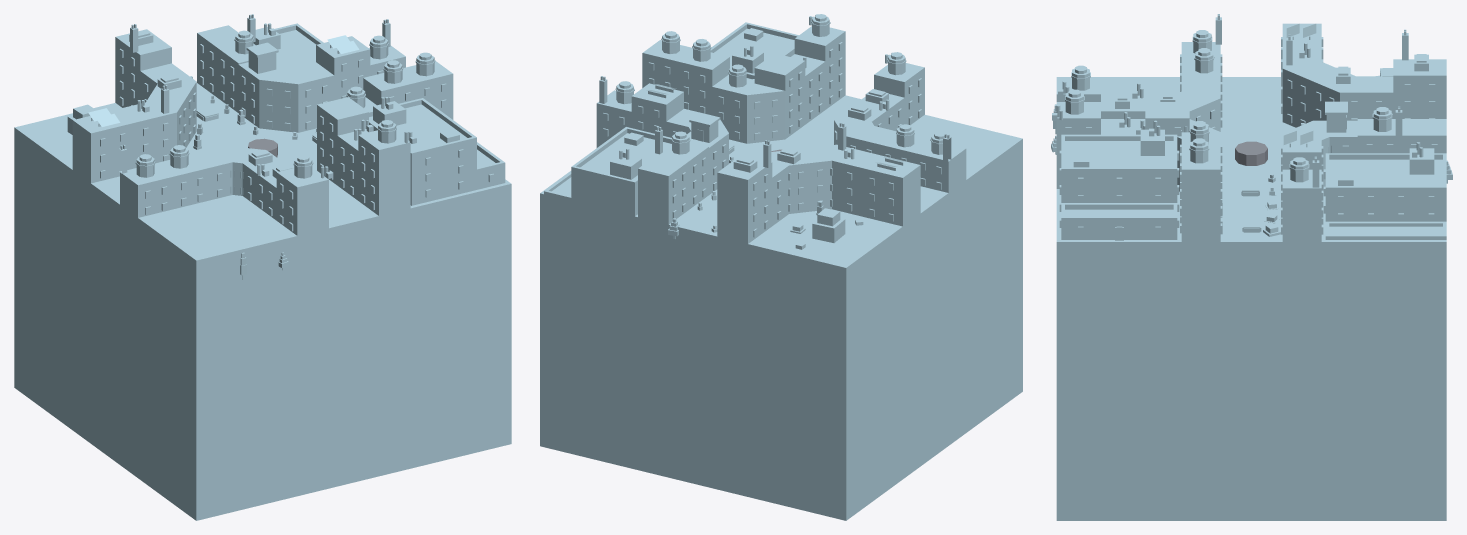
The model's file is block_19_undergroundtanks_100.glb.
3 renders of one model, left to right at view 1: azimuth 30°, elevation 25°; view 2: azimuth 150°, elevation 25°; view 3: azimuth 270°, elevation 25°, orthographic. The views are drawn at different scales.
Visible parts, largest first — view 1: Patch_MidRight_b19_UT, Cerda_MidRight_b19_UT, Insets_MidRight_b19_UT, CerdaRoofProps_MidRight_b19_UT, Green_MidRight_b19_UT; view 2: Patch_MidRight_b19_UT, Cerda_MidRight_b19_UT, Insets_MidRight_b19_UT, CerdaRoofProps_MidRight_b19_UT, Asset_Tree_Round.065_UT, Green_MidRight_b19_UT; view 3: Patch_MidRight_b19_UT, Cerda_MidRight_b19_UT, Insets_MidRight_b19_UT, CerdaRoofProps_MidRight_b19_UT, UT_TankUnit_19.
Part boxes in pixels (left/top/right/bottom): Patch_MidRight_b19_UT: left=14, top=83, right=511, bottom=520; Cerda_MidRight_b19_UT: left=72, top=25, right=453, bottom=270; Insets_MidRight_b19_UT: left=253, top=23, right=505, bottom=205; CerdaRoofProps_MidRight_b19_UT: left=88, top=14, right=435, bottom=178; Green_MidRight_b19_UT: left=14, top=142, right=312, bottom=312; Patch_MidRight_b19_UT: left=540, top=95, right=1022, bottom=520; Cerda_MidRight_b19_UT: left=596, top=26, right=966, bottom=260; Insets_MidRight_b19_UT: left=544, top=22, right=798, bottom=249; CerdaRoofProps_MidRight_b19_UT: left=599, top=14, right=951, bottom=172; Asset_Tree_Round.065_UT: left=812, top=208, right=845, bottom=242; Green_MidRight_b19_UT: left=737, top=185, right=1022, bottom=284; Patch_MidRight_b19_UT: left=1056, top=77, right=1446, bottom=520; Cerda_MidRight_b19_UT: left=1056, top=23, right=1446, bottom=260; Insets_MidRight_b19_UT: left=1059, top=129, right=1446, bottom=240; CerdaRoofProps_MidRight_b19_UT: left=1052, top=14, right=1428, bottom=187; UT_TankUnit_19: left=1235, top=141, right=1267, bottom=165.
Bounding box in the file's own units: 9.51 × 10.16 × 9.78.
